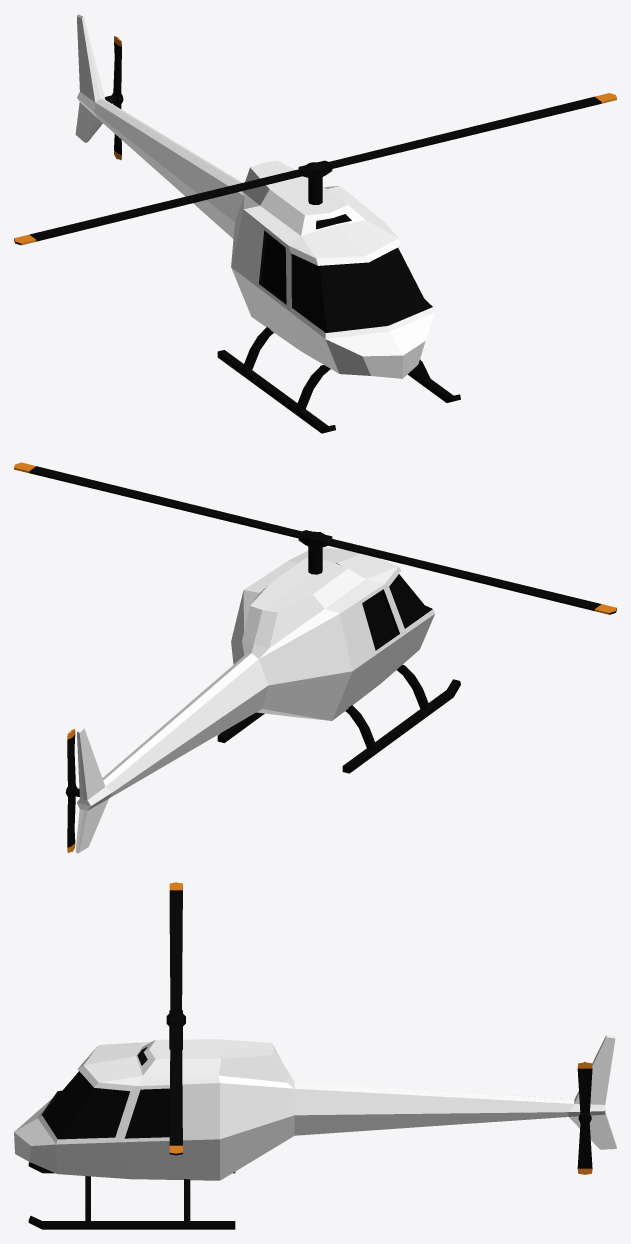
File: helicopter.glb
3 renders of one model, top to bottom at view 1: azimuth 30°, elevation 25°; view 2: azimuth 150°, elevation 25°; view 3: azimuth 270°, elevation 25°, orthographic. The views are drawn at different scales.
Parts seen in each view (by area): view 1: helicopter, blades, tail_rotor; view 2: helicopter, blades, tail_rotor; view 3: helicopter, blades, tail_rotor.
Boxes of the visible parts, x1,y1,x2,y2 form: helicopter: (75, 14, 460, 433); blades: (14, 93, 616, 245); tail_rotor: (105, 36, 123, 160); helicopter: (75, 547, 460, 853); blades: (14, 462, 616, 614); tail_rotor: (65, 729, 79, 852); helicopter: (14, 1035, 616, 1229); blades: (166, 882, 185, 1155); tail_rotor: (577, 1062, 592, 1174).
Size of the model in its own units: 11.49 by 3.66 by 10.79.
Materials: 1 (1 with a texture image).
